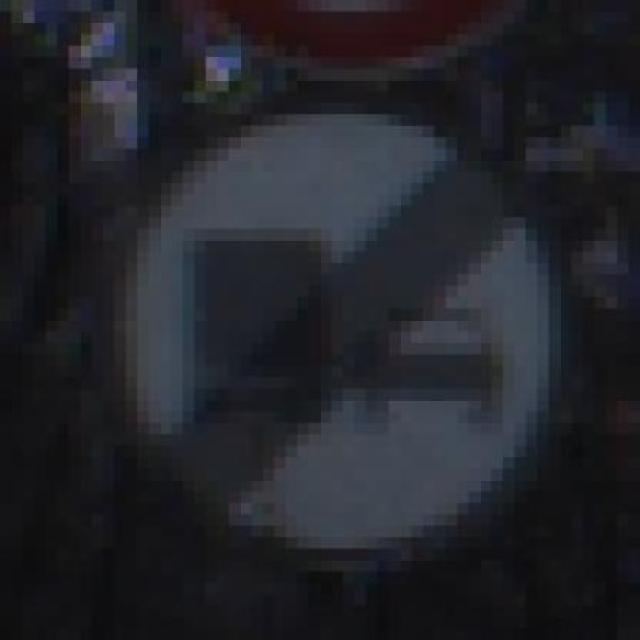Overtaking by trucks is prohibited: (45, 103, 618, 583)
